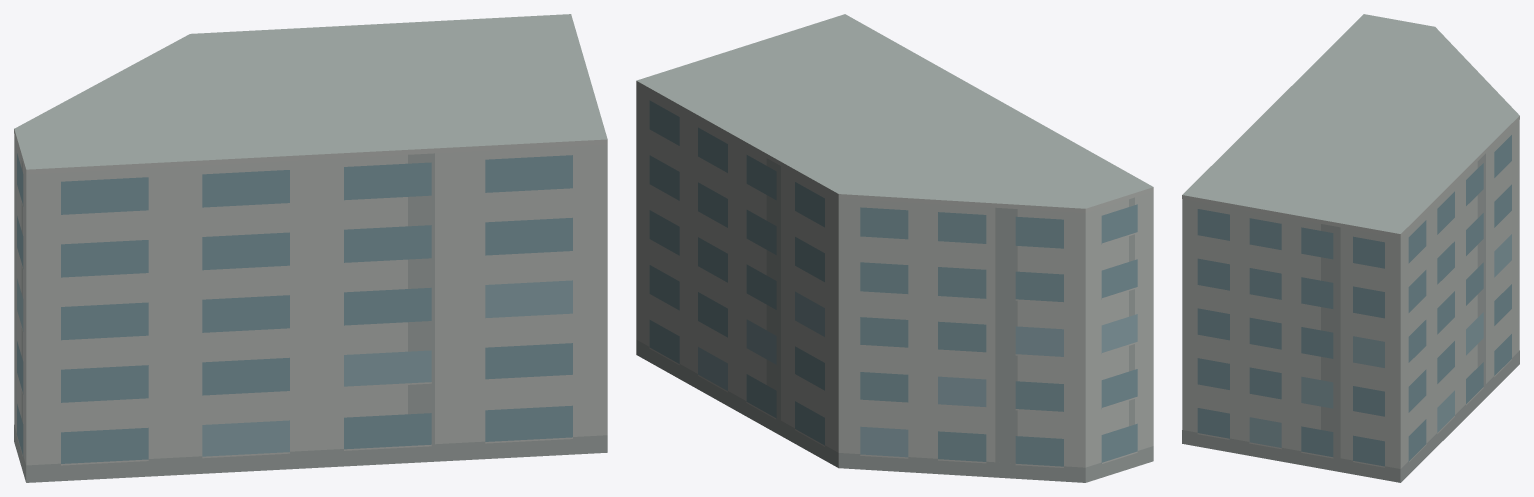
Rendered from residential-f2a25d69-d1bf-47b9-a494-b14ac0119ff8.glb.
3 views of the same model, side by side, from view 1: azimuth 30°, elevation 25°; view 2: azimuth 150°, elevation 25°; view 3: azimuth 270°, elevation 25° (orthographic). The views are drawn at different scales.
Parts seen in each view (by area): view 1: residential-f2a25d69-d1bf-47b9-a494-b14ac0119ff8.tmp; view 2: residential-f2a25d69-d1bf-47b9-a494-b14ac0119ff8.tmp; view 3: residential-f2a25d69-d1bf-47b9-a494-b14ac0119ff8.tmp.
Part boxes in pixels (x1,y1,x2,y2): residential-f2a25d69-d1bf-47b9-a494-b14ac0119ff8.tmp: (14, 14, 607, 482); residential-f2a25d69-d1bf-47b9-a494-b14ac0119ff8.tmp: (636, 14, 1153, 482); residential-f2a25d69-d1bf-47b9-a494-b14ac0119ff8.tmp: (1182, 14, 1519, 482).
Bounding box in the file's own units: 28.95 × 15.25 × 18.77.
